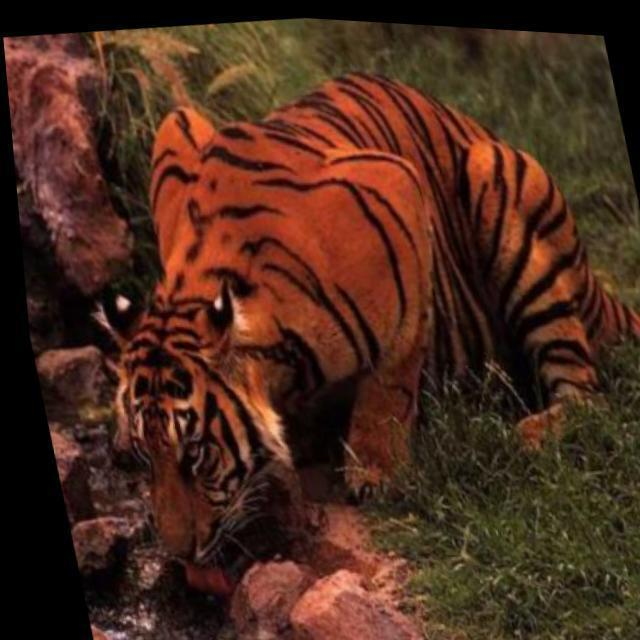tiger: (91, 68, 639, 587)
